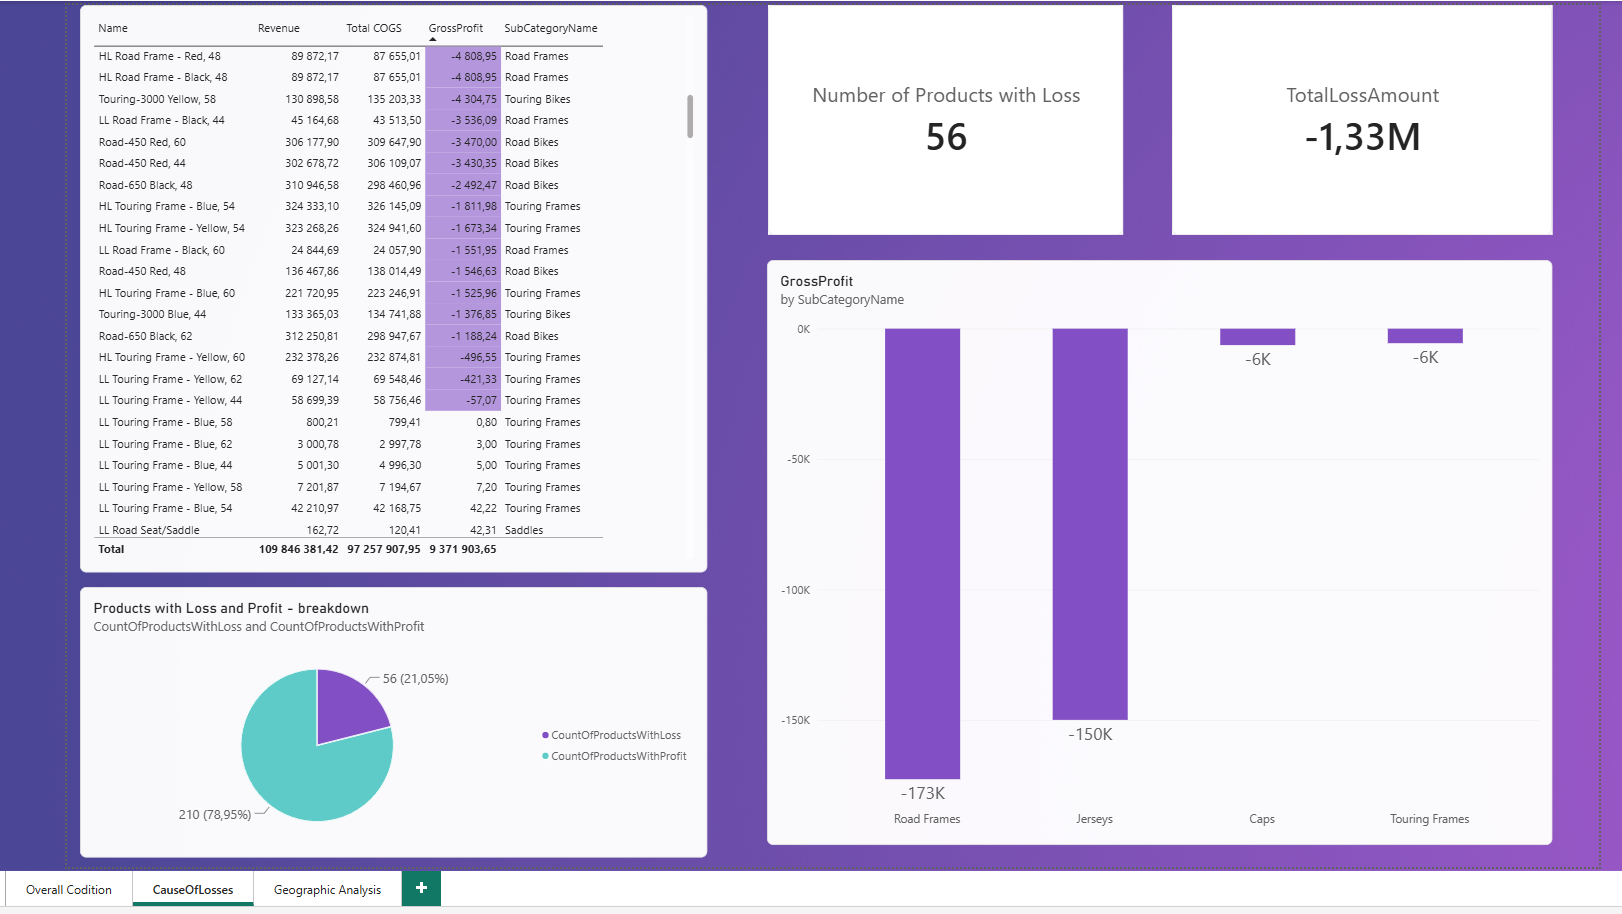

Layout of this report page (visuals, bound fields, positions):
{"tool":"powerbi","page":{"name":"CauseOfLosses","canvas":[1920,1080],"ordinal":2},"visuals":[{"type":"tableEx","fields":{"Values":["DimProduct.Name","_Measures.Revenue","_Measures.Total COGS","_Measures.GrossProfit","DimProduct.SubCategoryName"]},"box":[16.2,0,786.2,711.2],"z":0},{"type":"cardVisual","fields":{"Data":["_Measures.CountOfProductsWithLoss"]},"box":[878.3,0,445,288.3],"z":1000},{"type":"clusteredColumnChart","fields":{"Category":["DimProduct.SubCategoryName"],"Y":["_Measures.GrossProfit"]},"box":[877.5,320,983.8,732.5],"z":2000},{"type":"pieChart","title":"Products with Loss and Profit - breakdown","fields":{"Y":["_Measures.CountOfProductsWithLoss","_Measures.CountOfProductsWithProfit"]},"box":[16.2,728.8,786.2,338.8],"z":3000},{"type":"cardVisual","fields":{"Data":["_Measures.TotalLessAmount"]},"box":[1385,0,476.7,288.3],"z":4000}]}

Visuals, with their boxes in screenshot pixels (x1, y1, x2, y2):
tableEx - DimProduct.Name x _Measures.Revenue: select_region(72, 0, 704, 572)
cardVisual - _Measures.CountOfProductsWithLoss: select_region(765, 0, 1123, 232)
clusteredColumnChart - DimProduct.SubCategoryName x _Measures.GrossProfit: select_region(764, 257, 1555, 846)
"Products with Loss and Profit - breakdown" pieChart: select_region(72, 586, 704, 858)
cardVisual - _Measures.TotalLessAmount: select_region(1172, 0, 1555, 232)
